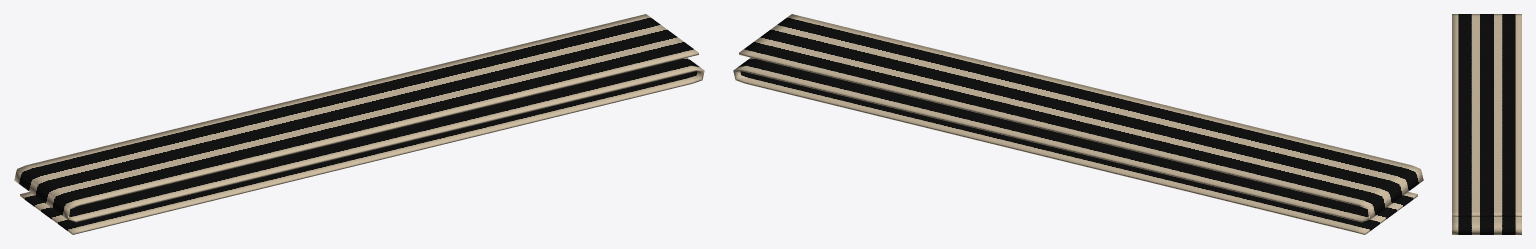
The model's file is M3D_faja.fbx.
3 views of the same model, side by side, from view 1: azimuth 30°, elevation 25°; view 2: azimuth 150°, elevation 25°; view 3: azimuth 270°, elevation 25° (orthographic). The views are drawn at different scales.
Parts seen in each view (by area): view 1: SM_faja; view 2: SM_faja; view 3: SM_faja.
Part boxes in pixels (x1,y1,x2,y2): SM_faja: (14, 14, 704, 234); SM_faja: (733, 14, 1423, 234); SM_faja: (1452, 14, 1521, 234).
Bounding box in the file's own units: 0.5841 × 0.0258 × 0.084.
